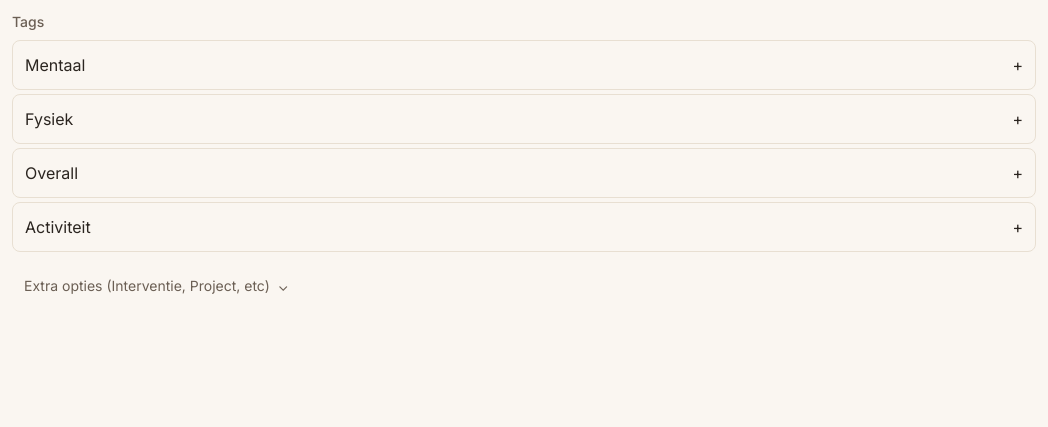
it: <TagCategoryList /> › tapping "+ nieuw" reveals an inline input + Toevoegen button and focuses the input
What coordinates should you click on to do the following:
click the button "mentaal +"
I would click on:
 (55, 65)
Its box is [12, 40, 1036, 90].
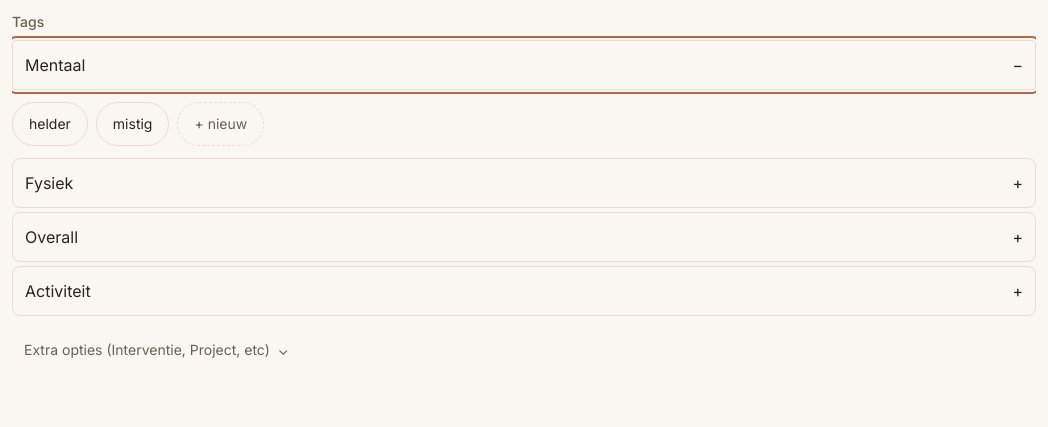
What coordinates should you click on to do the following:
click the button with aria-label "voeg tag toe aan mentaal"
I would click on:
 (221, 124)
Its box is [178, 102, 264, 146].
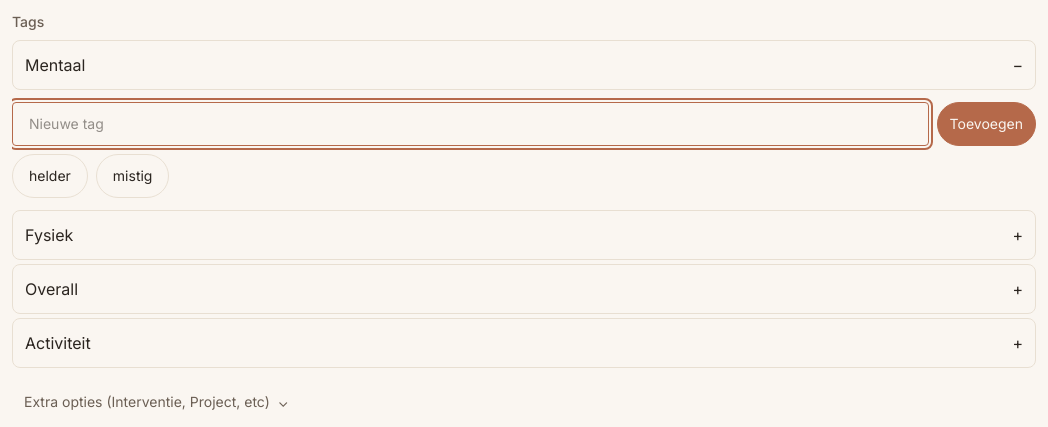
expect the field labelled "Nieuwe tag" is shown: met, box [12, 102, 929, 146]
expect the button "Toevoegen" is shown: met, box [937, 102, 1036, 146]
